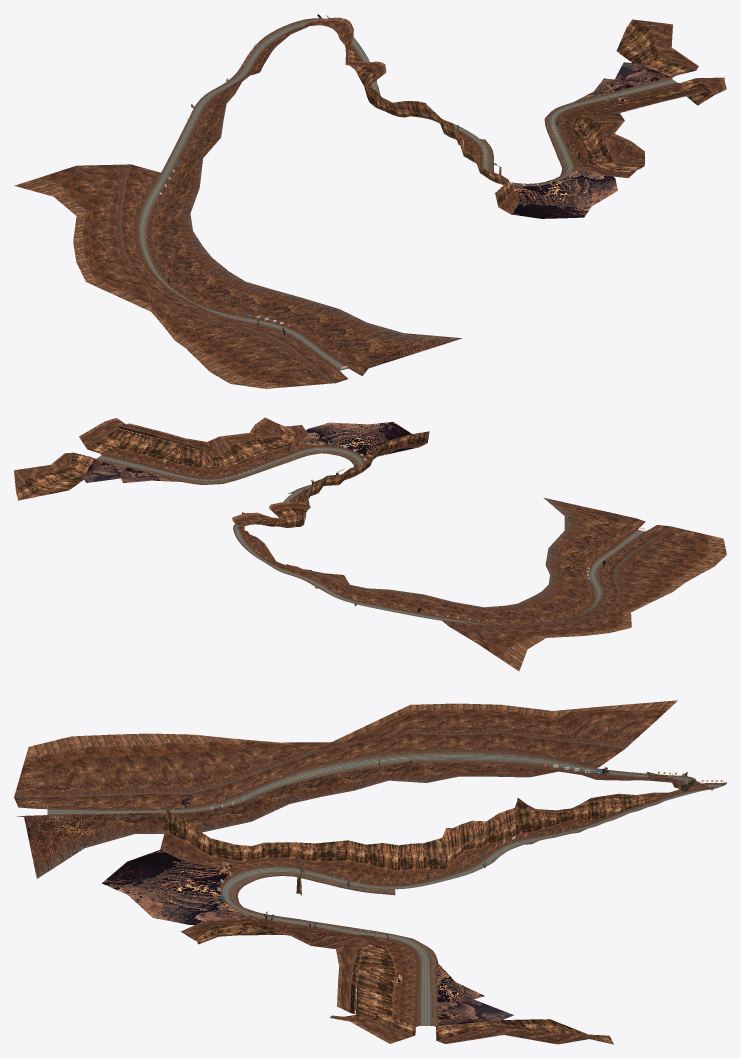
The model's file is stage-gran-env.glb.
3 renders of one model, top to bottom at view 1: azimuth 30°, elevation 25°; view 2: azimuth 150°, elevation 25°; view 3: azimuth 270°, elevation 25°, orthographic. The views are drawn at different scales.
Visible parts, largest first — view 1: env part 1 chunk -1,-3, env part 1 chunk 0,-3, env part 1 chunk 5,-3, env part 1 chunk 3,-2, env part 1 chunk 6,-5, env part 1 chunk 3,-5, env part 1 chunk 3,-3, env part 1 chunk 4,-3, env part 1 chunk 6,-3, env part 1 chunk 2,-5, env part 1 chunk 1,-6, env part 1 chunk 6,-4 (+2 smaller); view 2: env part 1 chunk -1,-3, env part 1 chunk 0,-3, env part 1 chunk 5,-3, env part 1 chunk 3,-2, env part 1 chunk 6,-5, env part 1 chunk 6,-3, env part 1 chunk 4,-3, env part 1 chunk 3,-3, env part 1 chunk 1,-6, env part 1 chunk 2,-5, env part 1 chunk 6,-4, env part 1 chunk 3,-5 (+2 smaller); view 3: env part 1 chunk -1,-3, env part 1 chunk 0,-3, env part 1 chunk 3,-3, env part 1 chunk 5,-3, env part 1 chunk 3,-2, env part 1 chunk 3,-5, env part 1 chunk 6,-3, env part 1 chunk 6,-5, env part 1 chunk 4,-3, env part 1 chunk 2,-5, env part 1 chunk 6,-4, env part 1 chunk 2,-4 (+5 smaller).
Part boxes in pixels (x1,y1,x2,y2): env part 1 chunk -1,-3: (14,164,347,388); env part 1 chunk 0,-3: (144,104,462,376); env part 1 chunk 5,-3: (559,92,664,177); env part 1 chunk 3,-2: (511,166,617,218); env part 1 chunk 6,-5: (616,19,698,77); env part 1 chunk 3,-5: (332,28,439,123); env part 1 chunk 3,-3: (435,112,518,214); env part 1 chunk 4,-3: (480,86,641,189); env part 1 chunk 6,-3: (642,77,726,105); env part 1 chunk 2,-5: (288,17,439,123); env part 1 chunk 1,-6: (191,34,290,113); env part 1 chunk 6,-4: (615,62,679,92); env part 1 chunk -1,-3: (442,525,726,671); env part 1 chunk 0,-3: (350,497,645,625); env part 1 chunk 5,-3: (136,417,306,477); env part 1 chunk 3,-2: (302,422,418,464); env part 1 chunk 6,-5: (14,452,95,500); env part 1 chunk 6,-3: (79,418,166,461); env part 1 chunk 4,-3: (127,445,371,493); env part 1 chunk 3,-3: (293,431,429,502); env part 1 chunk 1,-6: (257,544,362,605); env part 1 chunk 2,-5: (232,502,310,550); env part 1 chunk 6,-4: (81,453,134,482); env part 1 chunk 3,-5: (245,488,310,526); env part 1 chunk -1,-3: (14,700,677,810); env part 1 chunk 0,-3: (17,759,655,878); env part 1 chunk 3,-3: (160,810,447,887); env part 1 chunk 5,-3: (181,916,416,1001); env part 1 chunk 3,-2: (102,850,258,924); env part 1 chunk 3,-5: (442,796,662,868); env part 1 chunk 6,-3: (329,978,415,1043); env part 1 chunk 6,-5: (435,1019,613,1044); env part 1 chunk 4,-3: (217,868,438,1001); env part 1 chunk 2,-5: (444,779,707,873); env part 1 chunk 6,-4: (414,999,513,1026); env part 1 chunk 2,-4: (231,780,713,886).
Bounding box in the file's own units: 2638 × 510 × 1885.
Materials: 20 (19 with a texture image).
